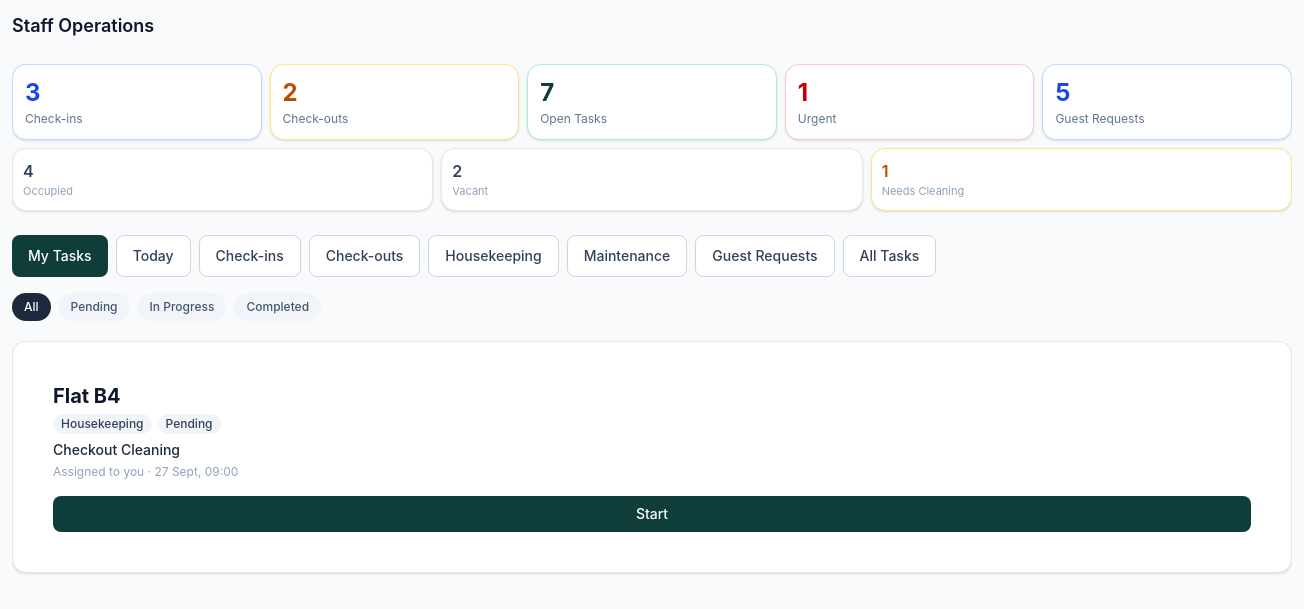
Test: StaffOperationsPage — UI polish › renders a task with unit, type, status, priority (when present), and assignment — using only existing data
This screenshot has width=1304, height=609.
Expected: the tab "Check-ins" is shown, [199, 234, 301, 276]
Step 1. Click the tab "Maintenance" → [627, 256], box [567, 234, 687, 276]
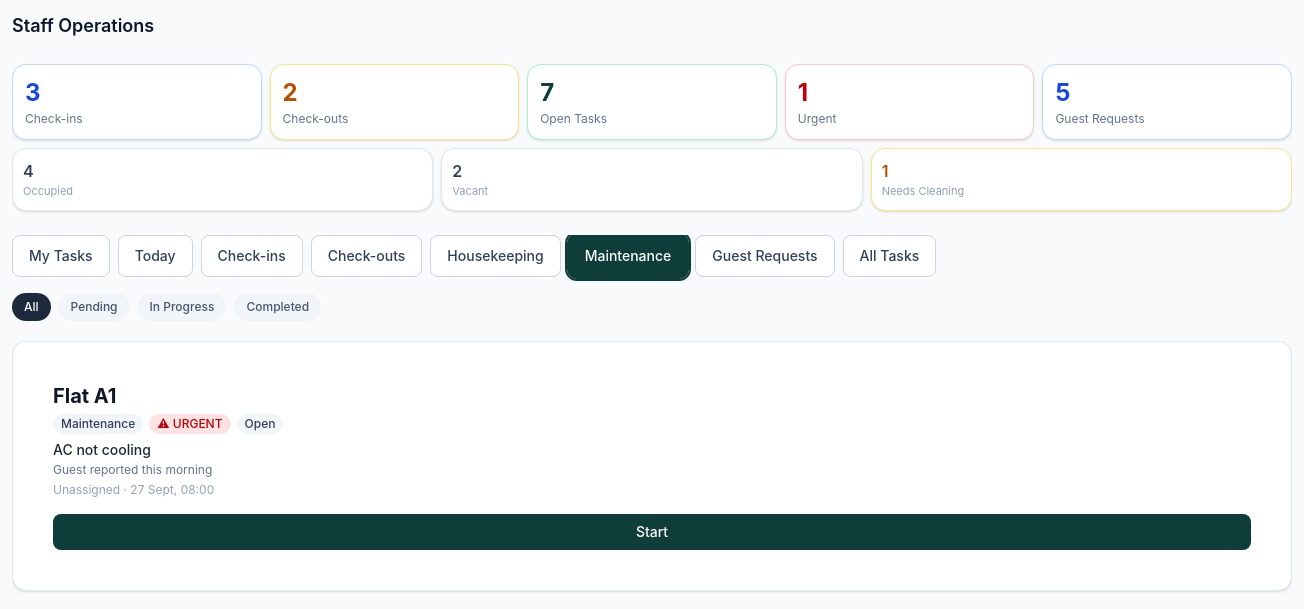
Expected: the text "Flat A1" is shown, [53, 384, 116, 408]
Expected: the text "AC not cooling" is shown, [53, 440, 151, 458]
Expected: the text "⚠ URGENT" is shown, [149, 414, 231, 434]
